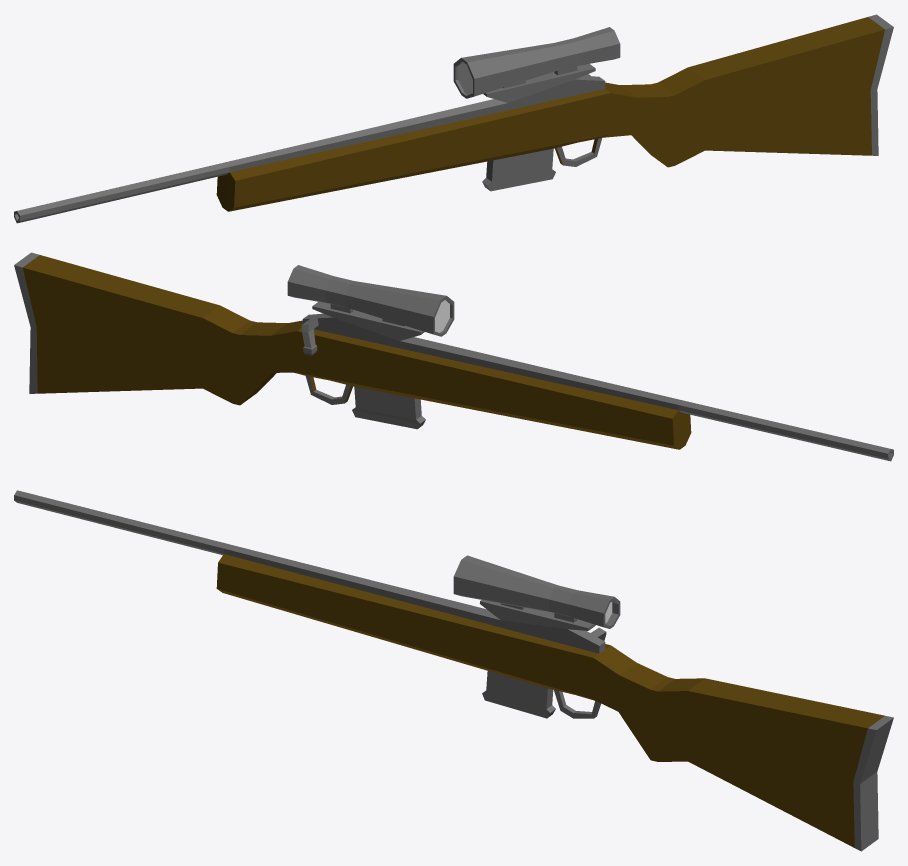
Rendered from betterSniper.glb.
The picture shows the model from 3 angles, top to bottom: view 1: azimuth 30°, elevation 25°; view 2: azimuth 150°, elevation 25°; view 3: azimuth 330°, elevation 25°; orthographic projection.
Parts seen in each view (by area): view 1: Cube; view 2: Cube; view 3: Cube.
Part boxes in pixels (left/top/right/bottom): Cube: left=14, top=14, right=893, bottom=223; Cube: left=14, top=252, right=893, bottom=461; Cube: left=14, top=490, right=893, bottom=851.
Size of the model in its own units: 1 by 0.2082 by 0.0516.
